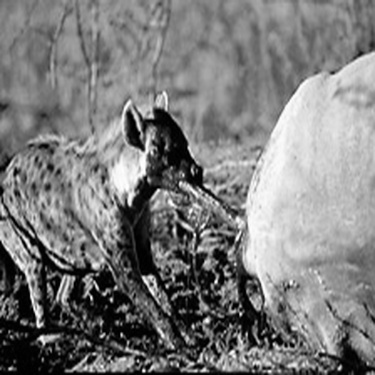dog: (3, 77, 236, 366)
